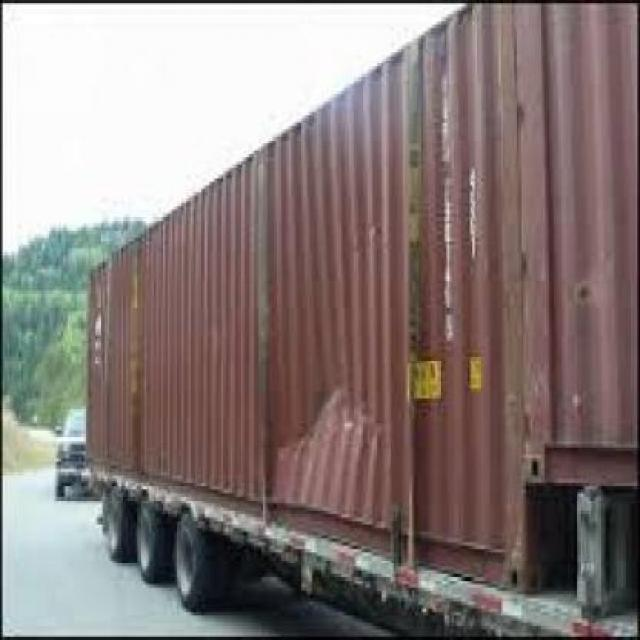dent: (264, 384, 395, 512)
